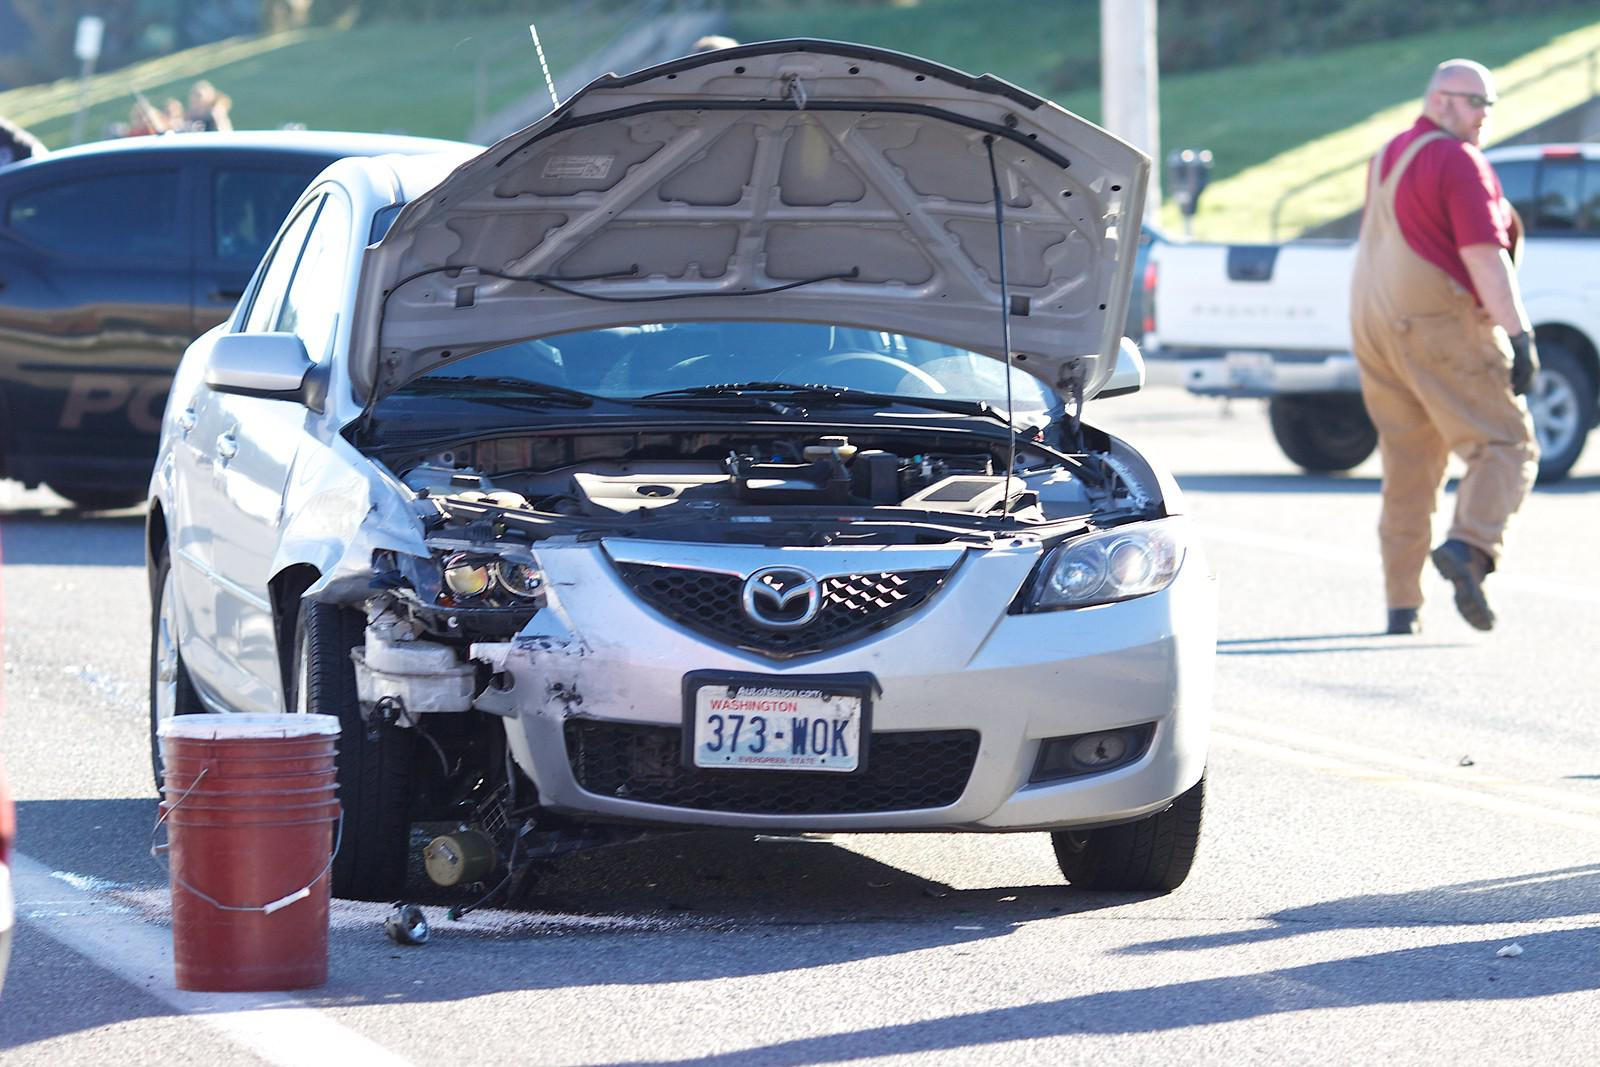Headlight-Damage: (323, 508, 595, 675)
front-bumper-dent: (300, 635, 1112, 838)
